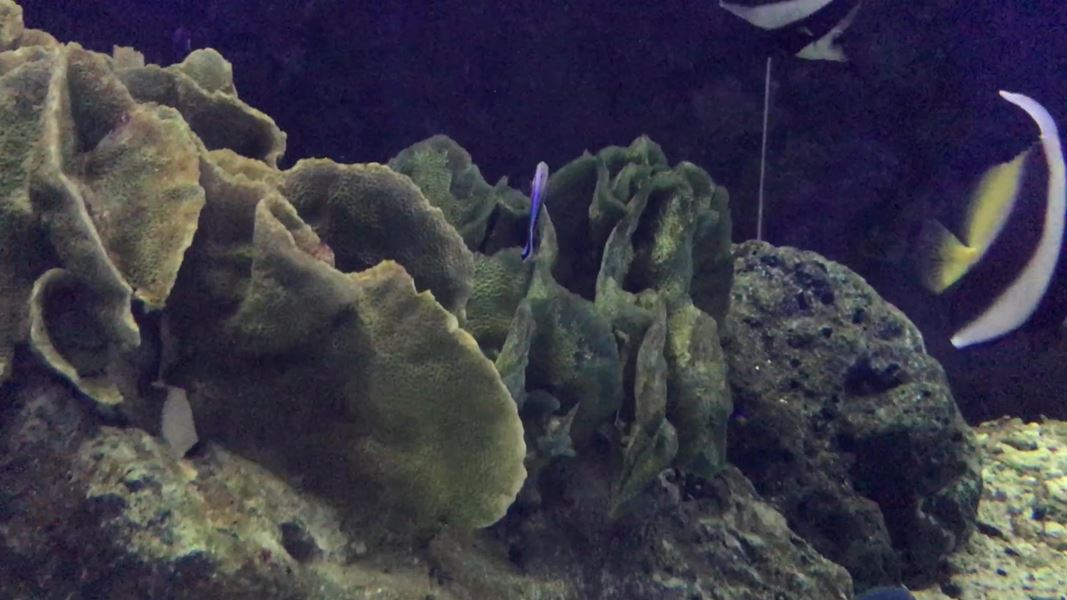Bluesteak cleaner wrasse: (497, 151, 561, 270)
